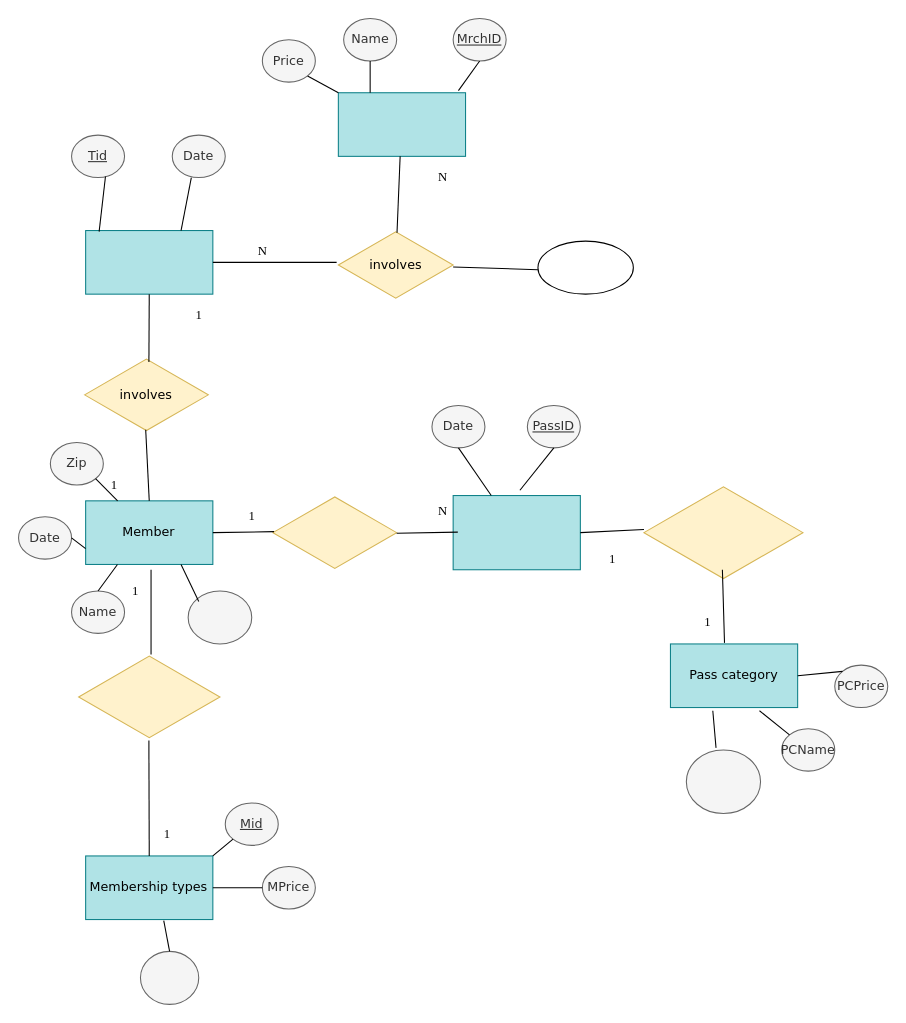
Some shapes in this 906 by 1023 pixel diagram are drawn without their labels. Each missing label, with the box of its shape:
buys: (272, 494, 397, 570)
has: (643, 484, 803, 580)
MembID: (187, 590, 252, 644)
Merchandise item: (337, 92, 466, 156)
MName: (139, 950, 199, 1004)
One day Pass: (452, 494, 580, 570)
PassCatID: (685, 749, 761, 814)
pays: (78, 653, 220, 739)
quantity: (537, 240, 633, 294)
Transaction: (85, 229, 213, 294)
